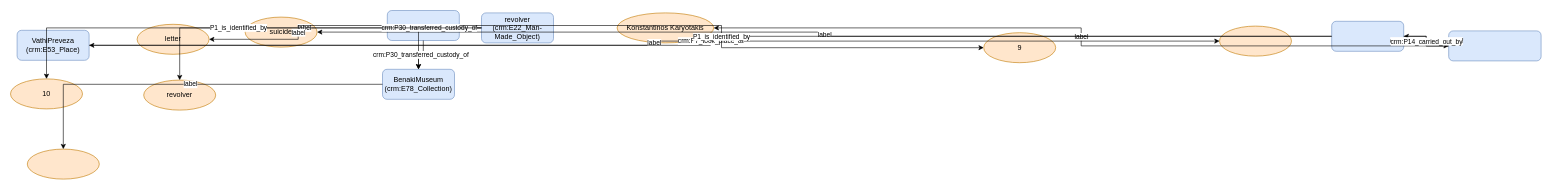
Some shapes in this 1552 by 190 pixel diagram are drawn without their labels. Each missing label, with the centre of its shape:
"Benaki Museum" belongs at (63,163).
"KonstantinosKaryotakis (crm:E21_Person)" belongs at (1494,45).
"letter (crm:E22_Man-Made_Object)" belongs at (423,25).
"suicide (crm:E7_Activity)" belongs at (1367,36).
"Vathi, Preveza" belongs at (1255,41).
